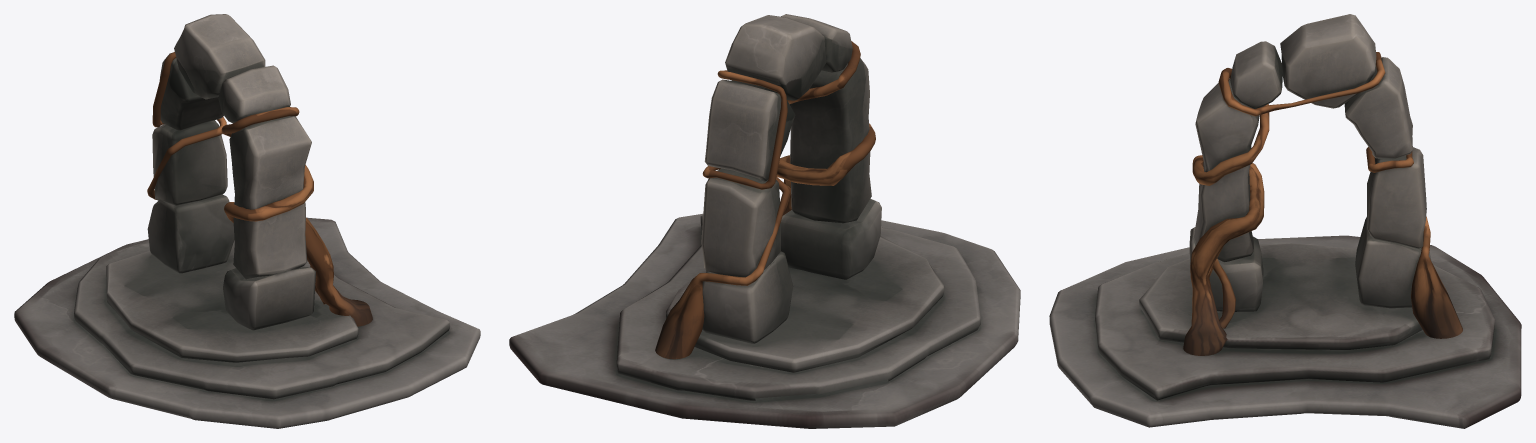
The model's file is portal.glb.
The picture shows the model from 3 angles, left to right: view 1: azimuth 30°, elevation 25°; view 2: azimuth 150°, elevation 25°; view 3: azimuth 270°, elevation 25°; orthographic projection. The views are drawn at different scales.
Visible parts, largest first — view 1: prop_portalpiedras_low_prop_portalpiedras_low_0-col, prop_portalmadera_low_prop_portalmadera_low_0-col; view 2: prop_portalpiedras_low_prop_portalpiedras_low_0-col, prop_portalmadera_low_prop_portalmadera_low_0-col; view 3: prop_portalpiedras_low_prop_portalpiedras_low_0-col, prop_portalmadera_low_prop_portalmadera_low_0-col.
Part boxes in pixels (bbox=[...]): prop_portalpiedras_low_prop_portalpiedras_low_0-col: bbox=[14, 14, 480, 428]; prop_portalmadera_low_prop_portalmadera_low_0-col: bbox=[147, 52, 372, 326]; prop_portalpiedras_low_prop_portalpiedras_low_0-col: bbox=[509, 14, 1020, 428]; prop_portalmadera_low_prop_portalmadera_low_0-col: bbox=[655, 41, 875, 359]; prop_portalpiedras_low_prop_portalpiedras_low_0-col: bbox=[1049, 14, 1521, 428]; prop_portalmadera_low_prop_portalmadera_low_0-col: bbox=[1183, 52, 1462, 355].
Size of the model in its own units: 5.46 by 4.38 by 5.95.
Materials: 2 (2 with a texture image).
